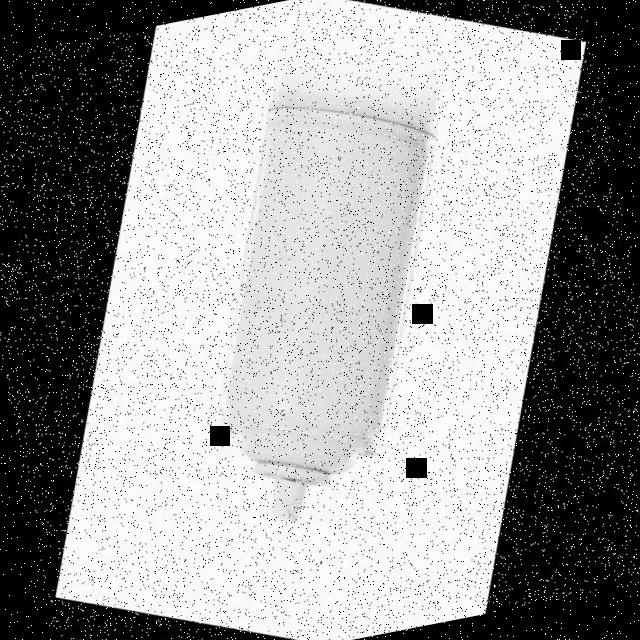chemical_spray_can: (99, 48, 539, 584)
